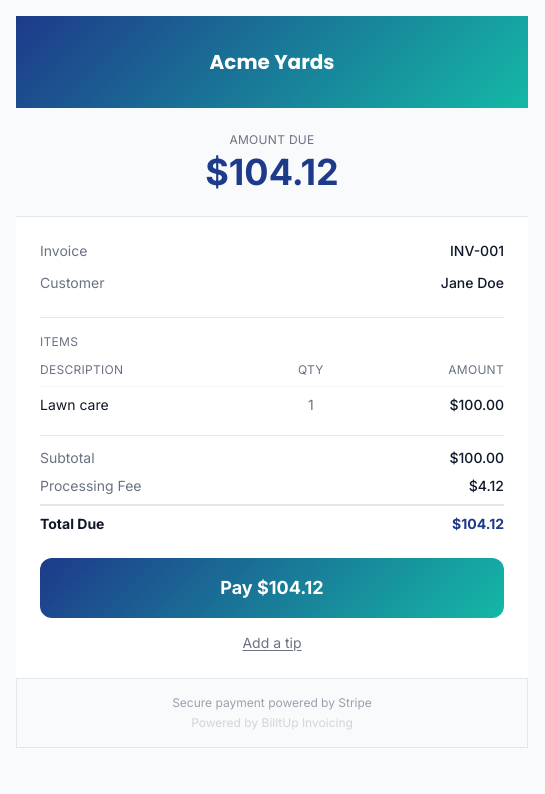
Scenario: PaymentPage tips › custom tip is validated and sent in dollars
Later steps or results of the test are not shown.
Check: the button "Pay $104.12" is shown, box [40, 558, 504, 618]
Click the button "Add a tip" at (272, 643), box [242, 633, 302, 653]
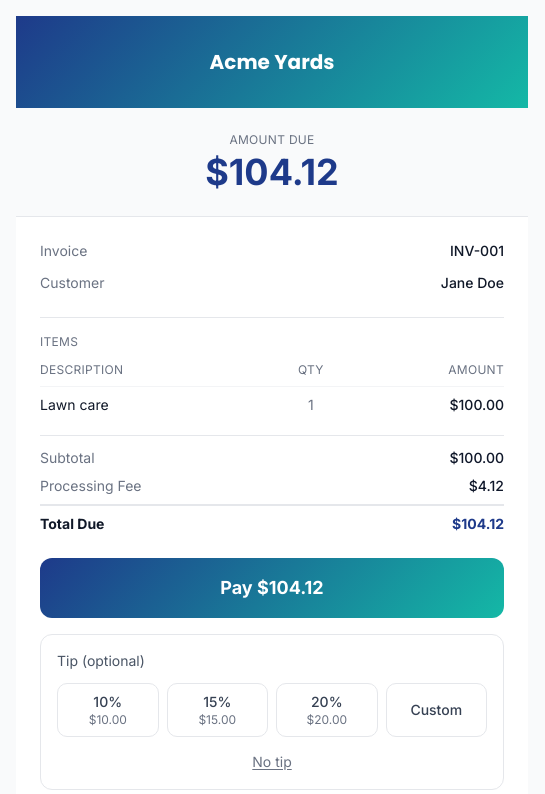
Click the button "Custom" at (436, 710), box [386, 683, 487, 737]
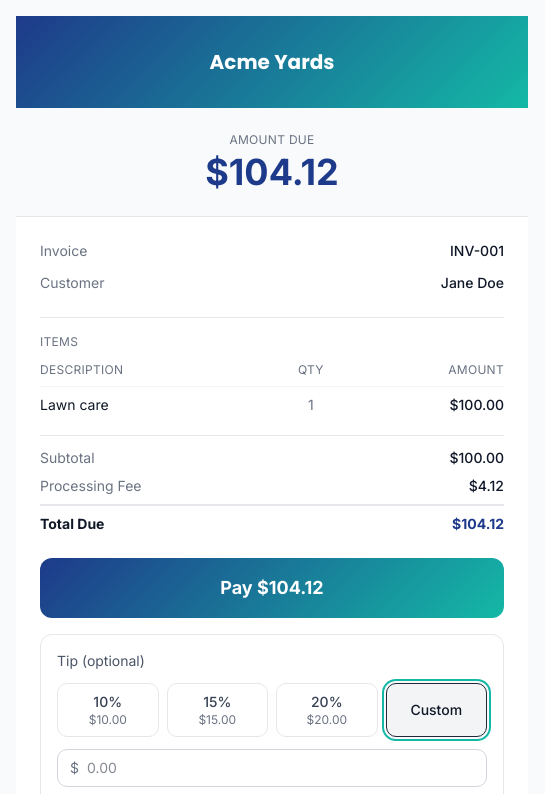
Type "150" into the field named "Custom tip amount" at (280, 768), box [87, 750, 474, 786]
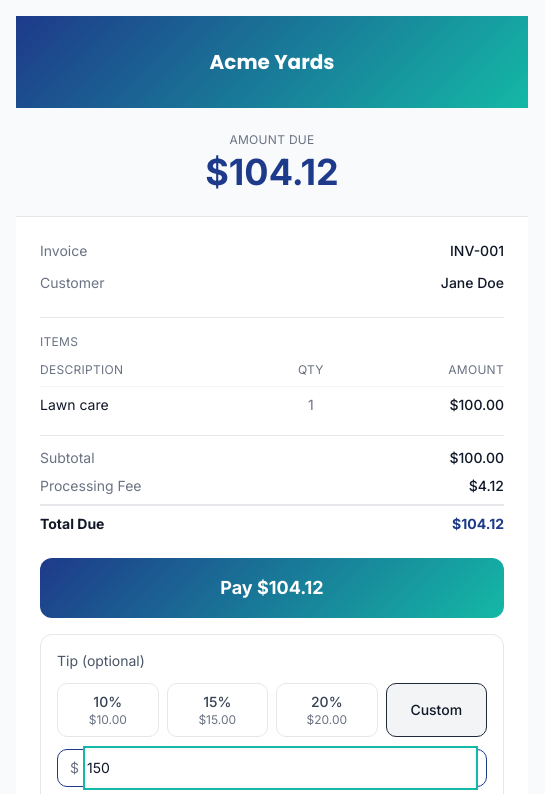
Check: the button "Pay $104.12" is disabled, box [40, 558, 504, 618]
Replace the text in the field named "Custom tip amount" with "7.5" at (280, 768), box [87, 750, 474, 786]
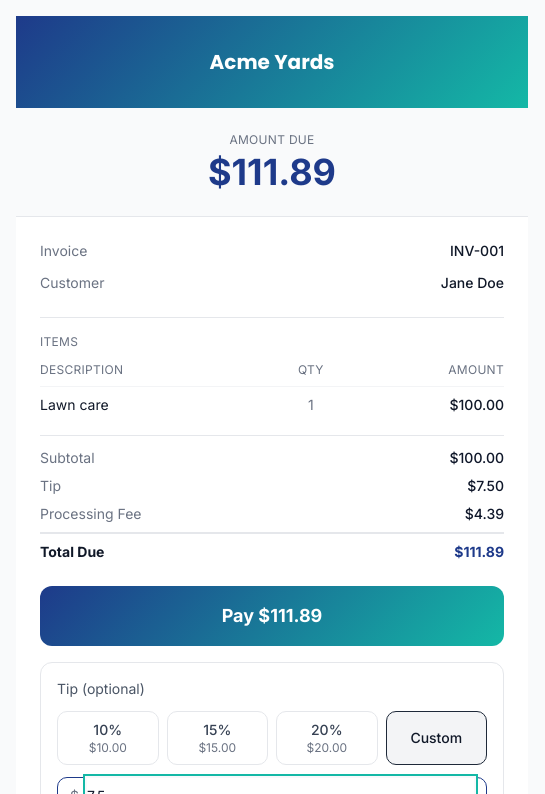
Check: the element with test id "tip-line" shows "$7.50", box [40, 476, 504, 496]
